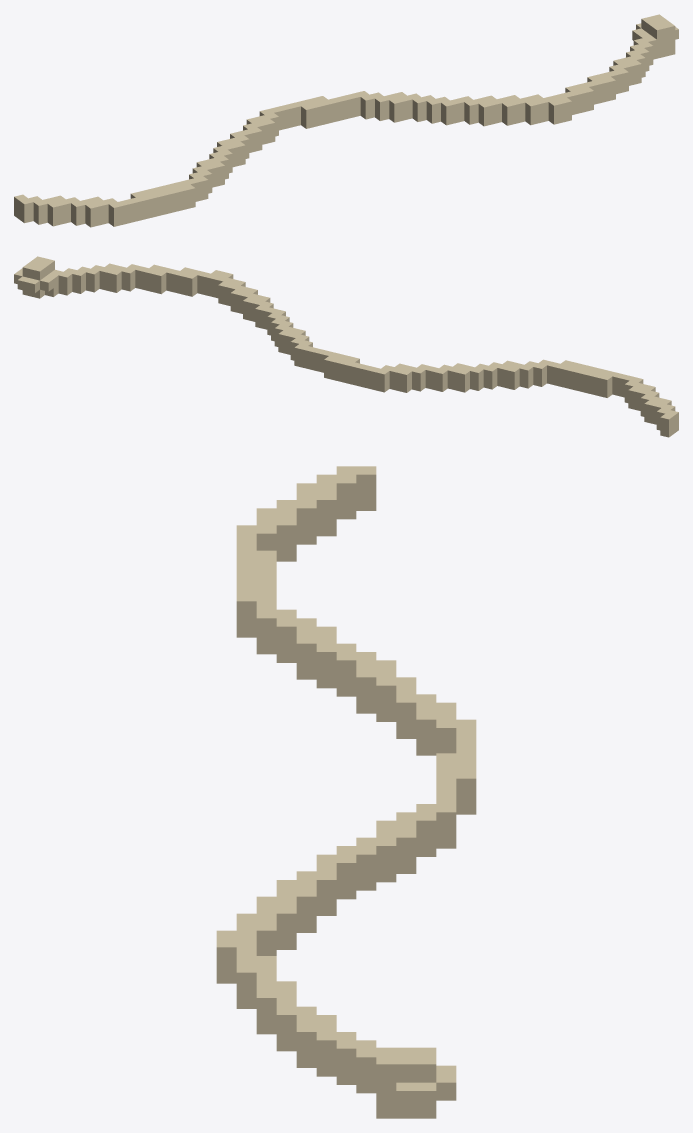
File: string_6.glb
The picture shows the model from 3 angles, top to bottom: view 1: azimuth 30°, elevation 25°; view 2: azimuth 150°, elevation 25°; view 3: azimuth 270°, elevation 25°; orthographic projection. The views are drawn at different scales.
Visible parts, largest first — view 1: string_6:compound; view 2: string_6:compound; view 3: string_6:compound.
Boxes of the visible parts, box(x1,y1,x2,y2) form: string_6:compound: box(14, 14, 678, 227); string_6:compound: box(14, 256, 678, 437); string_6:compound: box(216, 466, 476, 1118).
Bounding box in the file's own units: 0.148 × 0.006 × 0.026.
